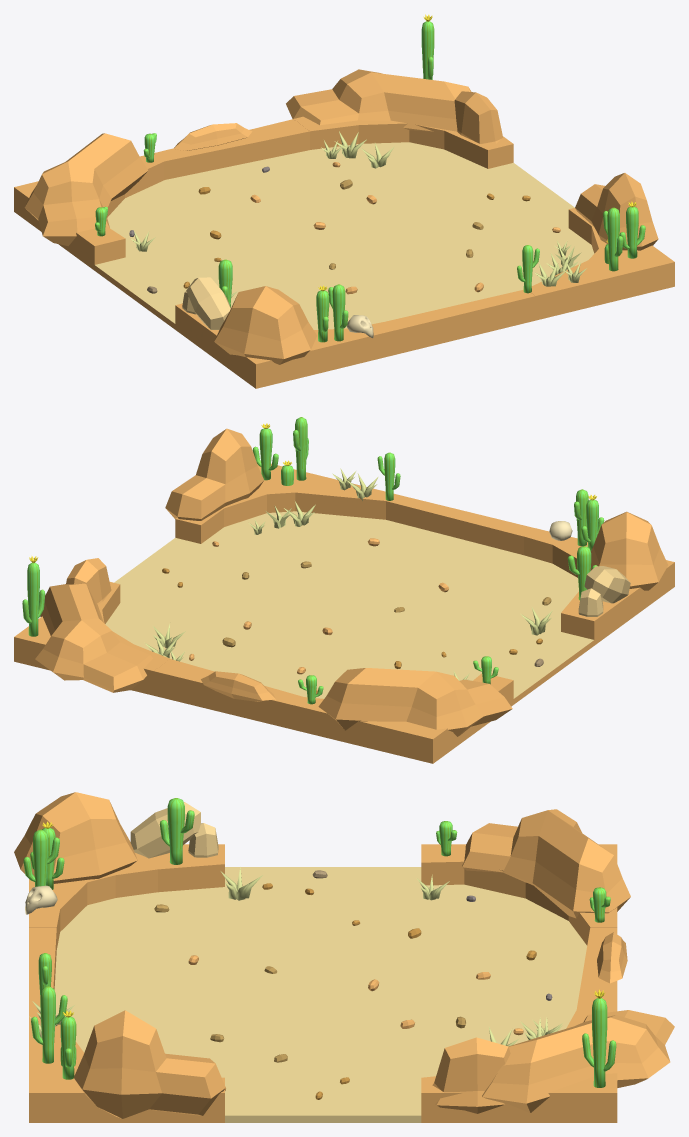
File: desert level set - 2 Way (5).fbx
The picture shows the model from 3 angles, top to bottom: view 1: azimuth 30°, elevation 25°; view 2: azimuth 150°, elevation 25°; view 3: azimuth 270°, elevation 25°; orthographic projection. The views are drawn at different scales.
Parts seen in each view (by area): view 1: land_platform_001, Cube_004, Cube_008, Cube_005, Cube_009, Cube_006, Cube_007, Cube_000, CACTUS_009, CACTUS_001, CACTUS_002, CACTUS_005 (+2 smaller); view 2: land_platform_001, Cube_004, Cube_008, Cube_009, Cube_005, Cube_007, Cube_000, Cube_006, CACTUS_005, CACTUS_001, CACTUS_009, CACTUS_007 (+3 smaller); view 3: land_platform_001, Cube_009, Cube_004, Cube_008, Cube_005, Cube_006, Cube_007, CACTUS_005, CACTUS_009, CACTUS_006, Cube_000, CACTUS_002 (+6 smaller).
Part boxes in pixels (x1,y1,x2,y2): land_platform_001: (14, 116, 674, 388); Cube_004: (24, 133, 148, 246); Cube_008: (286, 69, 471, 131); Cube_005: (214, 286, 317, 364); Cube_009: (575, 173, 658, 250); Cube_006: (454, 91, 502, 143); Cube_007: (182, 277, 230, 329); Cube_000: (173, 123, 252, 150); CACTUS_009: (603, 207, 623, 271); CACTUS_001: (619, 201, 645, 258); CACTUS_002: (328, 284, 348, 341); CACTUS_005: (421, 14, 434, 79); land_platform_001: (14, 463, 674, 763); Cube_004: (318, 668, 512, 736); Cube_008: (35, 583, 152, 692); Cube_009: (165, 428, 264, 520); Cube_005: (590, 511, 668, 590); Cube_007: (578, 566, 630, 616); Cube_000: (201, 671, 275, 701); Cube_006: (66, 558, 111, 604); CACTUS_005: (22, 556, 45, 636); CACTUS_001: (252, 423, 278, 480); CACTUS_009: (293, 417, 308, 480); CACTUS_007: (581, 495, 604, 551); land_platform_001: (29, 844, 617, 1122); Cube_009: (73, 1010, 225, 1118); Cube_004: (462, 809, 630, 918); Cube_008: (482, 1010, 674, 1112); Cube_005: (14, 792, 137, 883); Cube_006: (432, 1037, 510, 1113); Cube_007: (130, 802, 218, 858); CACTUS_005: (582, 989, 616, 1087); CACTUS_009: (31, 986, 67, 1063); CACTUS_006: (159, 798, 194, 864); Cube_000: (597, 932, 627, 983); CACTUS_002: (23, 829, 59, 886).
Bounding box in the file's own units: 16.67 × 3.6 × 17.05.
